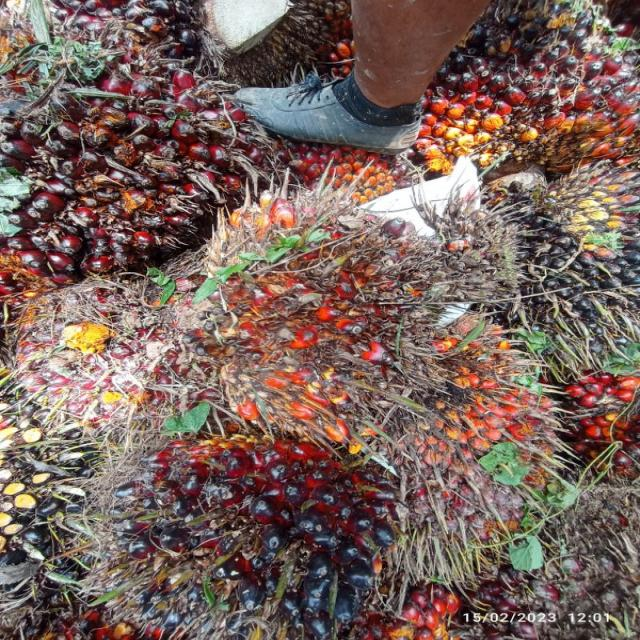fraksi 00: (460, 145, 640, 368)
fraksi 1: (91, 382, 446, 640), (8, 10, 296, 285)
fraksi 4: (170, 180, 568, 483)
